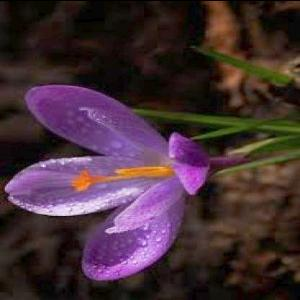Saffron: (5, 84, 220, 279)
